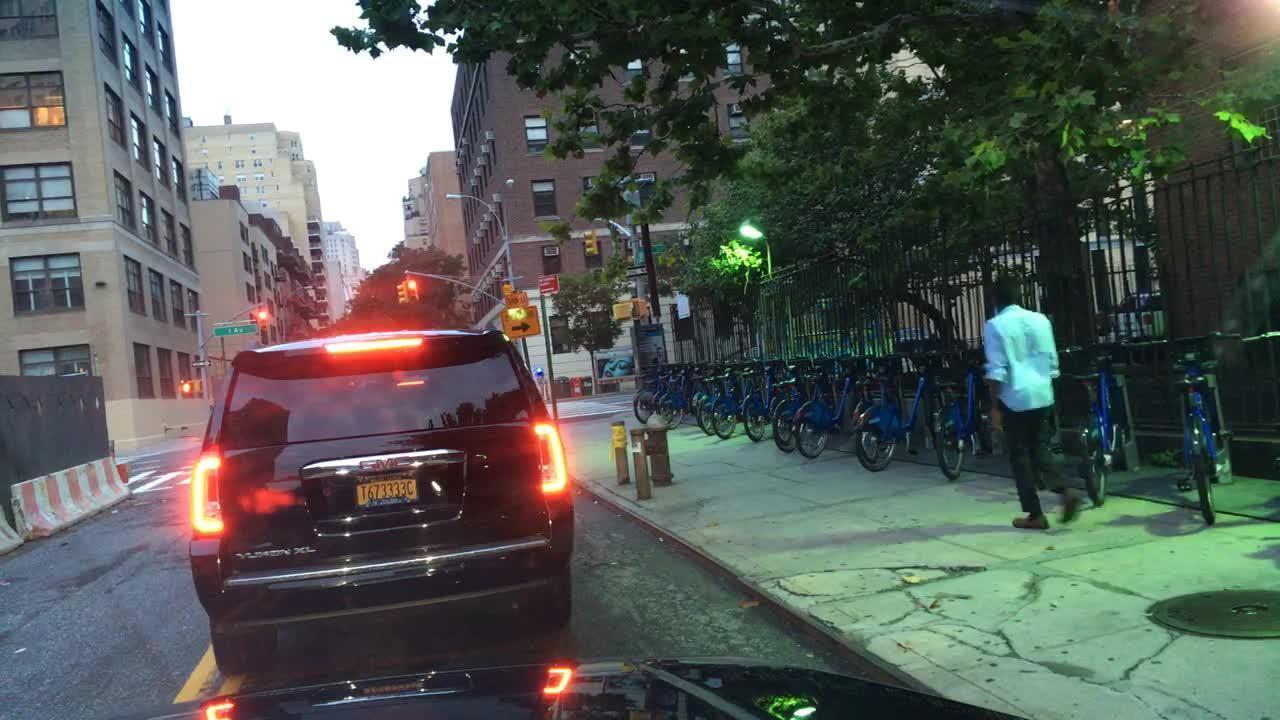GMC: (357, 452, 414, 474)
